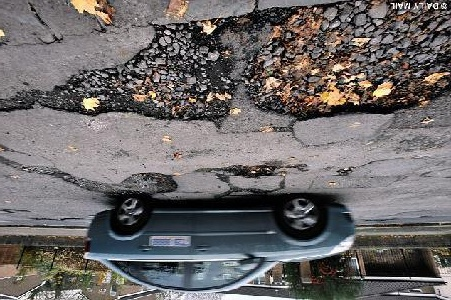pothole: (37, 0, 450, 130), (120, 171, 179, 197), (220, 162, 280, 179)
